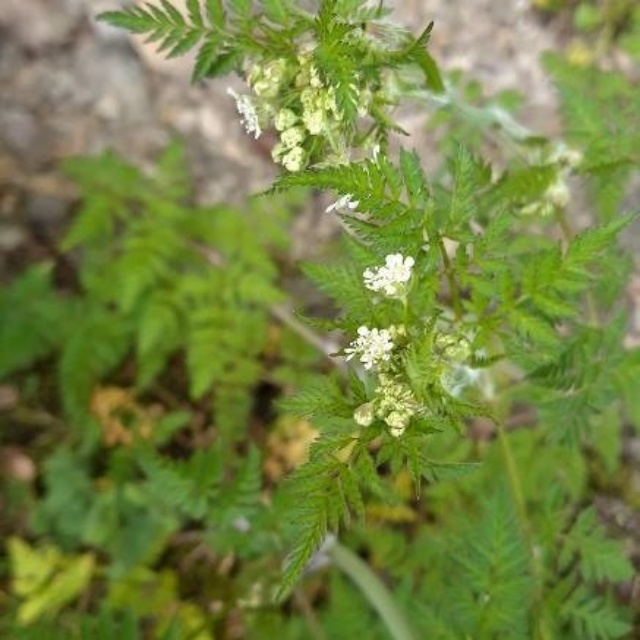obstacle: (204, 12, 599, 573)
